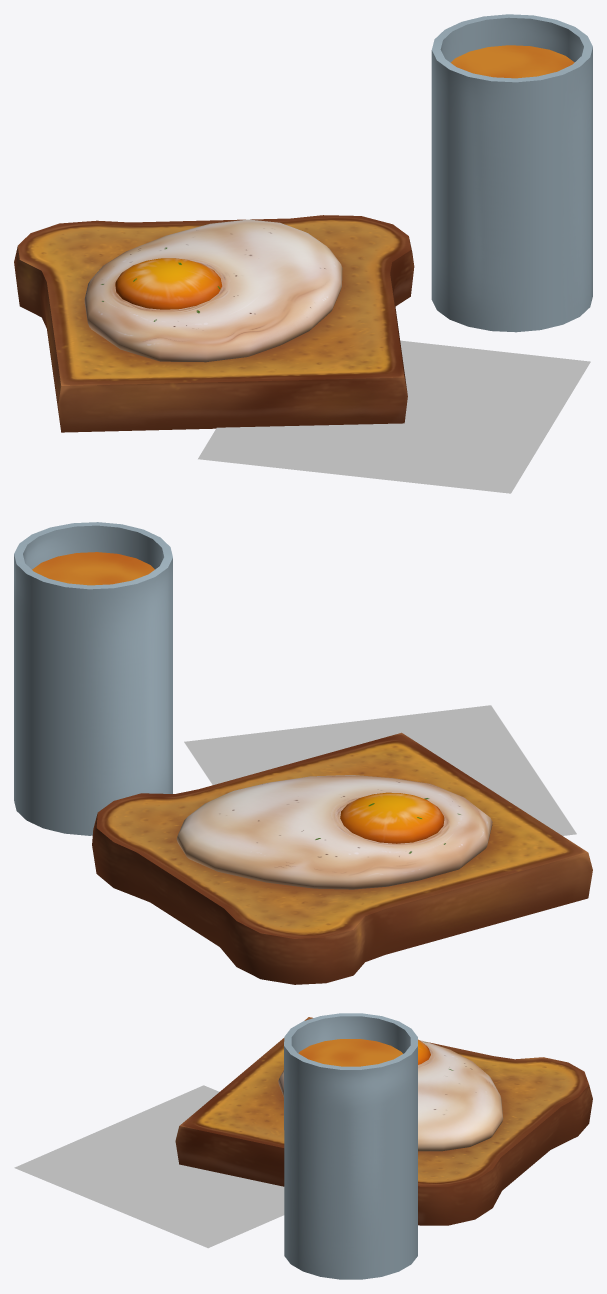
Rendered from Breakfast_02.fbx.
3 renders of one model, top to bottom at view 1: azimuth 30°, elevation 25°; view 2: azimuth 150°, elevation 25°; view 3: azimuth 270°, elevation 25°, orthographic. The views are drawn at different scales.
Visible parts, largest first — view 1: Toast, Glass, Napkin1, Eggwhite, Eggyolk, Drink; view 2: Toast, Glass, Eggwhite, Napkin1, Eggyolk, Drink; view 3: Glass, Toast, Napkin1, Eggwhite, Drink.
Boxes of the visible parts, bbox=[...] form: Toast: bbox=[14, 215, 414, 432]; Glass: bbox=[431, 14, 592, 332]; Napkin1: bbox=[198, 340, 590, 493]; Eggwhite: bbox=[84, 219, 342, 362]; Eggyolk: bbox=[115, 258, 221, 309]; Drink: bbox=[451, 45, 574, 78]; Toast: bbox=[92, 732, 592, 984]; Glass: bbox=[14, 522, 172, 835]; Eggwhite: bbox=[176, 775, 492, 889]; Napkin1: bbox=[184, 705, 576, 835]; Eggyolk: bbox=[340, 792, 444, 843]; Drink: bbox=[32, 552, 154, 585]; Glass: bbox=[284, 1013, 417, 1279]; Toast: bbox=[175, 1017, 592, 1225]; Napkin1: bbox=[14, 1085, 284, 1248]; Eggwhite: bbox=[278, 1040, 503, 1151]; Drink: bbox=[298, 1039, 402, 1066].
Bounding box in the file's own units: 11.79 × 5.13 × 12.82.
